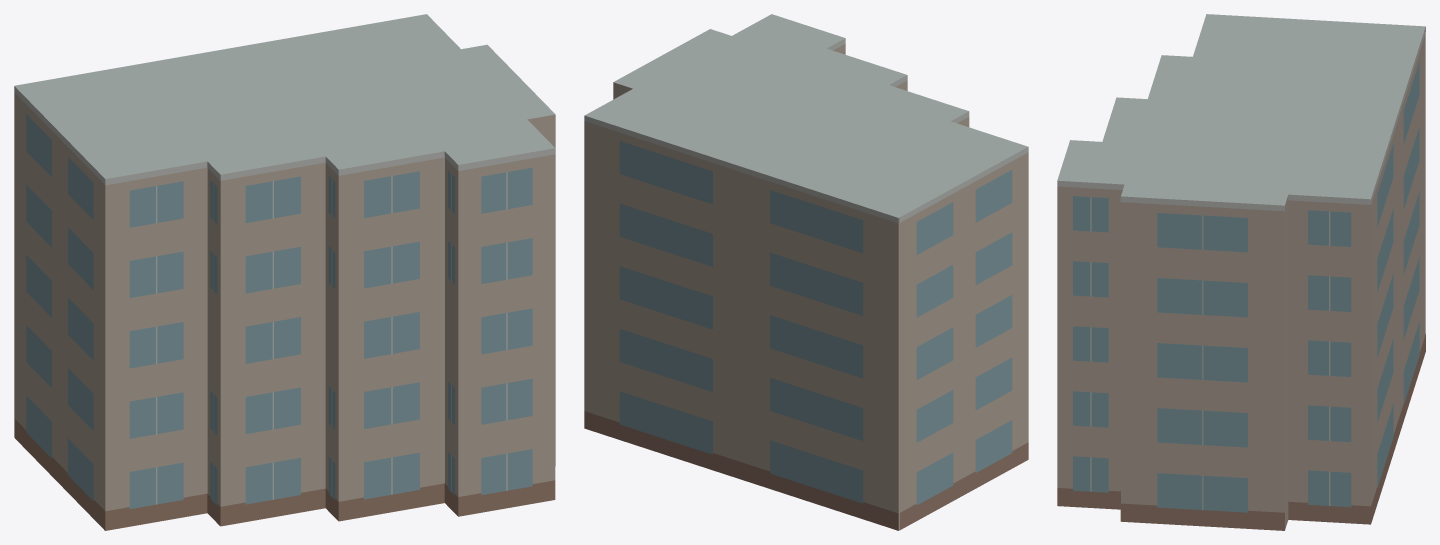
The model's file is survey-upis-32715449.glb.
3 renders of one model, left to right at view 1: azimuth 30°, elevation 25°; view 2: azimuth 150°, elevation 25°; view 3: azimuth 270°, elevation 25°, orthographic. The views are drawn at different scales.
Parts seen in each view (by area): view 1: survey-upis-32715449.tmp; view 2: survey-upis-32715449.tmp; view 3: survey-upis-32715449.tmp.
Part boxes in pixels (left/top/right/bottom): survey-upis-32715449.tmp: left=14, top=14, right=555, bottom=530; survey-upis-32715449.tmp: left=584, top=14, right=1028, bottom=530; survey-upis-32715449.tmp: left=1057, top=14, right=1425, bottom=530.
Size of the model in its own units: 17.72 by 14.02 by 14.41.
